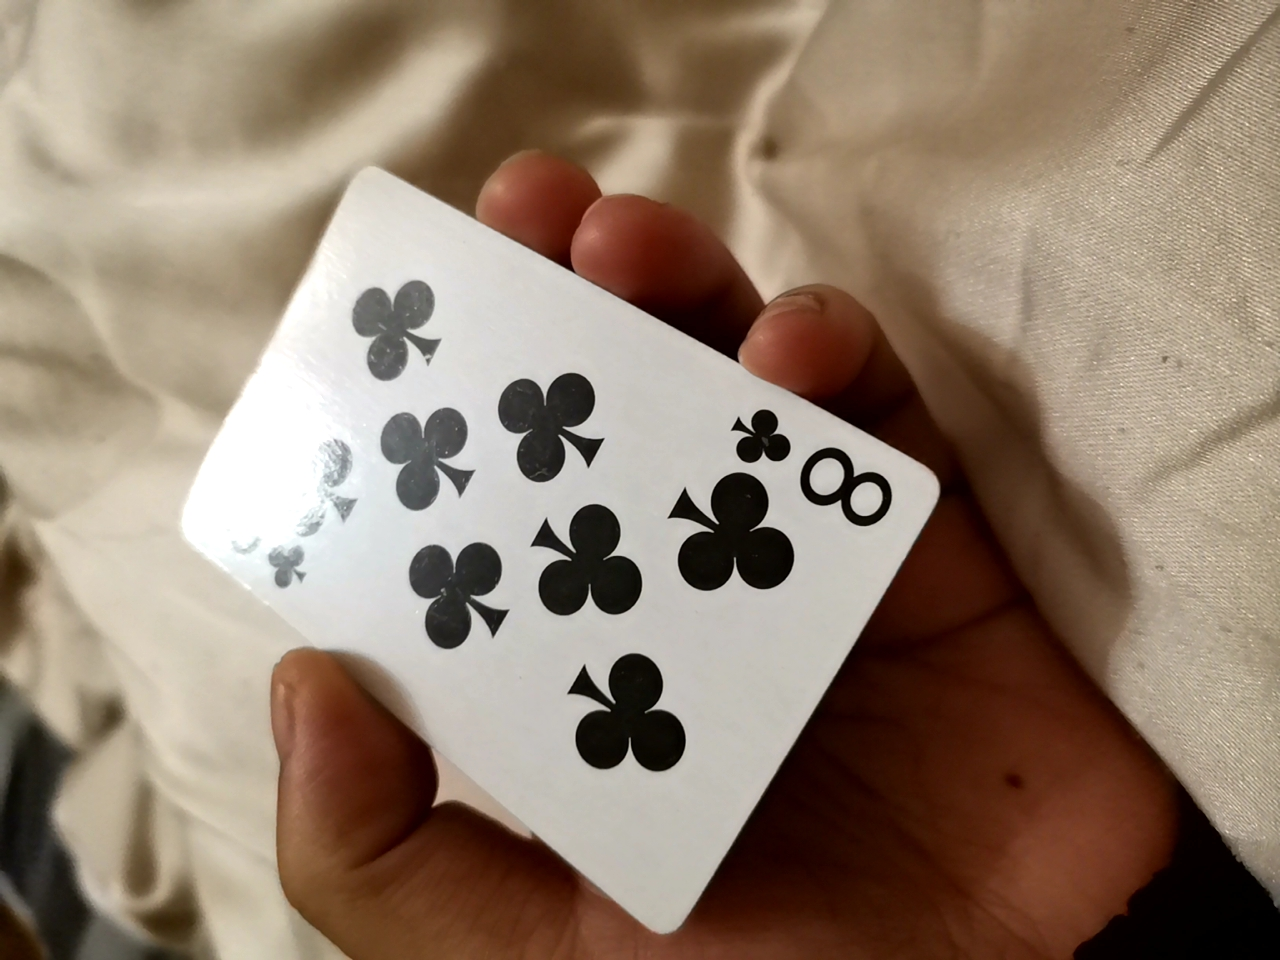mh 8: (156, 144, 970, 938)
